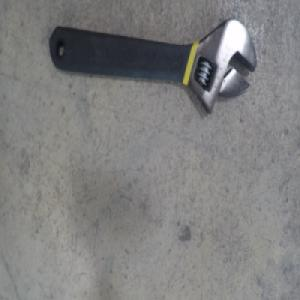AdjustableWrench: (48, 16, 255, 116)
